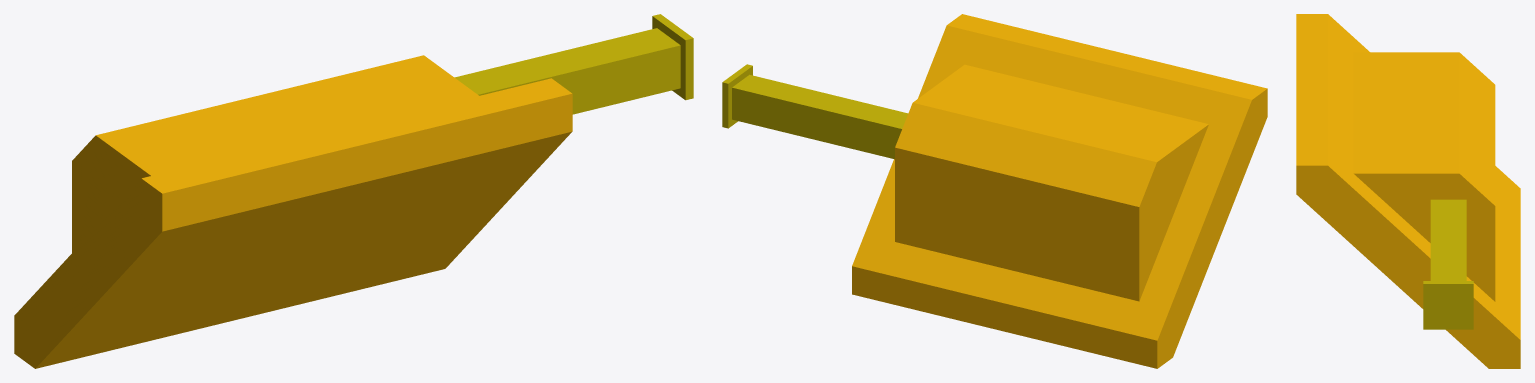
File: fender_corner_support_1x3.dae
3 views of the same model, side by side, from view 1: azimuth 30°, elevation 25°; view 2: azimuth 150°, elevation 25°; view 3: azimuth 270°, elevation 25° (orthographic). The views are drawn at different scales.
Visible parts, largest first — view 1: Cube; view 2: Cube; view 3: Cube.
Boxes of the visible parts, left/top/right/bottom form: Cube: left=14, top=14, right=693, bottom=368; Cube: left=722, top=14, right=1267, bottom=368; Cube: left=1296, top=14, right=1520, bottom=368.
Bounding box in the file's own units: 0.75 × 0.3125 × 0.3125.
